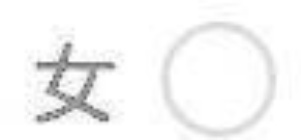CheckBox: (1, 1, 300, 139)
